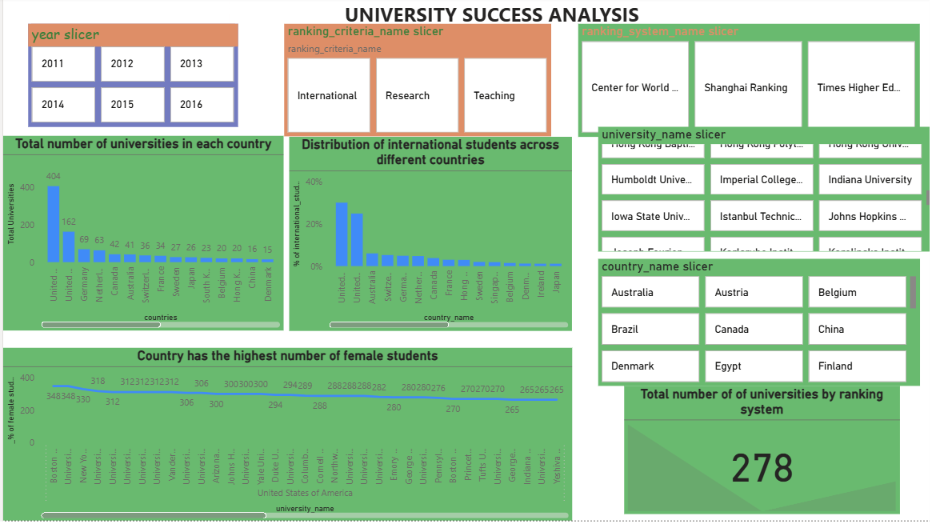

Layout of this report page (visuals, bound fields, positions):
{"tool":"powerbi","page":{"name":"DASHBOARD 1","canvas":[1280,720],"ordinal":19},"visuals":[{"type":"textbox","box":[310,0,721,48],"z":0},{"type":"advancedSlicerVisual","title":"year slicer","fields":{"Values":["university_year.year"]},"box":[34,37,280,142],"z":1000},{"type":"advancedSlicerVisual","title":"ranking_criteria_name slicer","fields":{"Values":["university_year.ranking_criteria_name"]},"box":[385,37,366,154],"z":2000},{"type":"advancedSlicerVisual","title":"ranking_system_name slicer","fields":{"Values":["university_year.ranking_system_name"]},"box":[789,37,469,155],"z":3000},{"type":"clusteredColumnChart","title":"Total number of universities in each country","fields":{"Category":["university_year.country_name"],"Y":["CountNonNull(university_year.university_name)"]},"box":[0,191,385,267],"z":4000},{"type":"clusteredColumnChart","title":"Distribution of international students across different countries","fields":{"Category":["university_year.country_name"],"Y":["Sum(university_year.pct_international_students)"]},"box":[393,192,388,266],"z":5000},{"type":"advancedSlicerVisual","title":"university_name slicer","fields":{"Values":["university_year.university_name"]},"box":[817,179,463,156],"z":6000},{"type":"advancedSlicerVisual","title":"country_name slicer","fields":{"Values":["university_year.country_name"]},"box":[817,375,441,149],"z":7000},{"type":"lineChart","title":"Country has the highest number of female students","fields":{"Category":["university_year.country_name","university_year.university_name"],"Y":["Sum(university_year.pct_female_students)"]},"box":[0,482,781,238],"z":8000},{"type":"kpi","title":"Total number of of universities by ranking system","fields":{"Indicator":["CountNonNull(university_year.university_name)"],"TrendLine":["university_year.ranking_system_name"]},"box":[852,534,378,176],"z":9000}]}

Visuals, with their boxes in screenshot pixels (x1, y1, x2, y2), scaled from the page's 1280x720 canvas onto the 930x522 screenshot:
textbox: bbox(225, 0, 749, 35)
"year slicer" advancedSlicerVisual: bbox(25, 27, 228, 130)
"ranking_criteria_name slicer" advancedSlicerVisual: bbox(280, 27, 546, 138)
"ranking_system_name slicer" advancedSlicerVisual: bbox(573, 27, 914, 139)
"Total number of universities in each country" clusteredColumnChart: bbox(0, 138, 280, 332)
"Distribution of international students across different countries" clusteredColumnChart: bbox(286, 139, 567, 332)
"university_name slicer" advancedSlicerVisual: bbox(594, 130, 929, 243)
"country_name slicer" advancedSlicerVisual: bbox(594, 272, 914, 380)
"Country has the highest number of female students" lineChart: bbox(0, 349, 567, 521)
"Total number of of universities by ranking system" kpi: bbox(619, 387, 894, 515)
